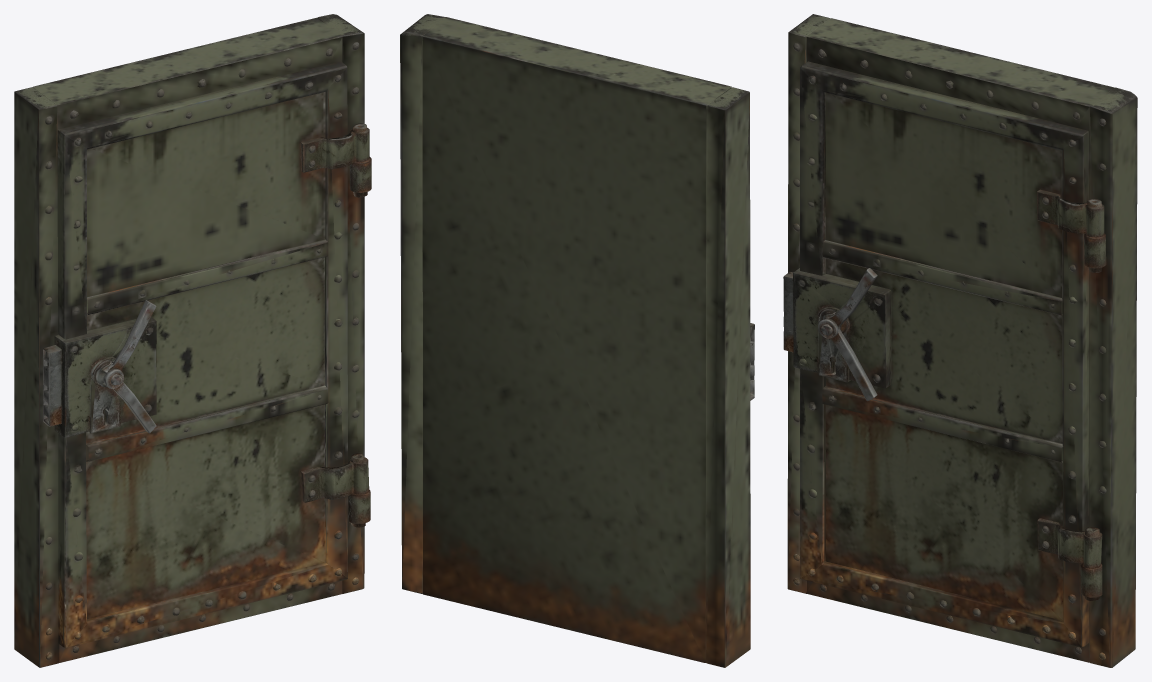
Rendered from silo81_steel_door_leaf.glb.
3 views of the same model, side by side, from view 1: azimuth 30°, elevation 25°; view 2: azimuth 150°, elevation 25°; view 3: azimuth 330°, elevation 25° (orthographic).
Bounding box in the file's own units: 0.5815 × 0.9536 × 0.1416.
Materials: 1 (1 with a texture image).
